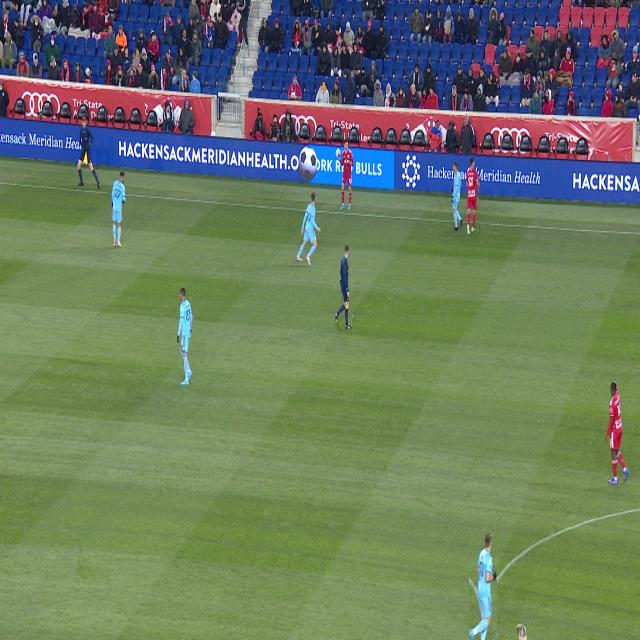player: (469, 534, 497, 639), (605, 381, 629, 485), (296, 192, 321, 266), (177, 288, 193, 385), (112, 171, 126, 248), (467, 158, 479, 235), (451, 161, 464, 232), (517, 624, 527, 640)
referee: (335, 245, 352, 329)
